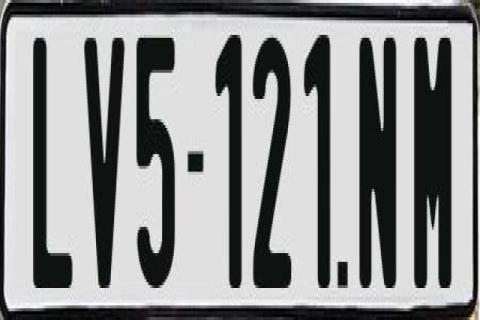0: (250, 35, 296, 297), (134, 32, 176, 296), (302, 29, 334, 297), (212, 32, 243, 296)
L: (30, 38, 70, 306)
M: (414, 38, 457, 294)
N: (358, 32, 400, 291)
V: (85, 32, 125, 282)
